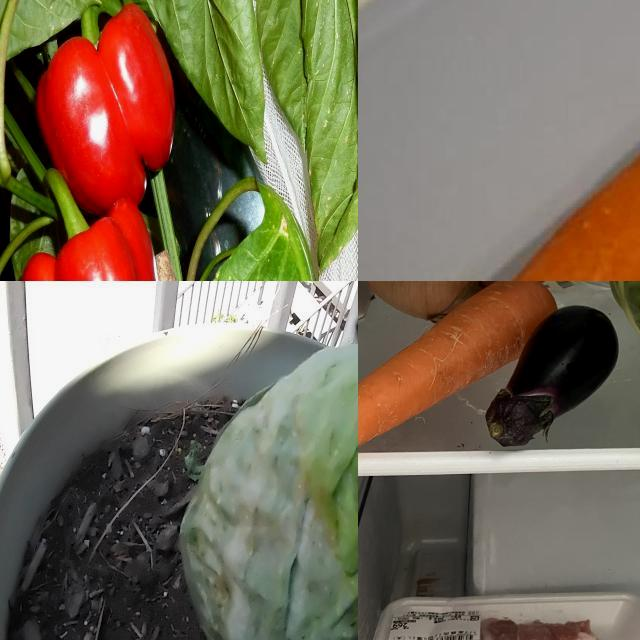bell_pepper: (34, 6, 180, 211), (23, 199, 160, 282)
cabbage: (173, 324, 359, 640)
carrot: (359, 13, 640, 282), (359, 282, 563, 477)
eggplant: (482, 306, 622, 454)
onion: (359, 282, 526, 328)
